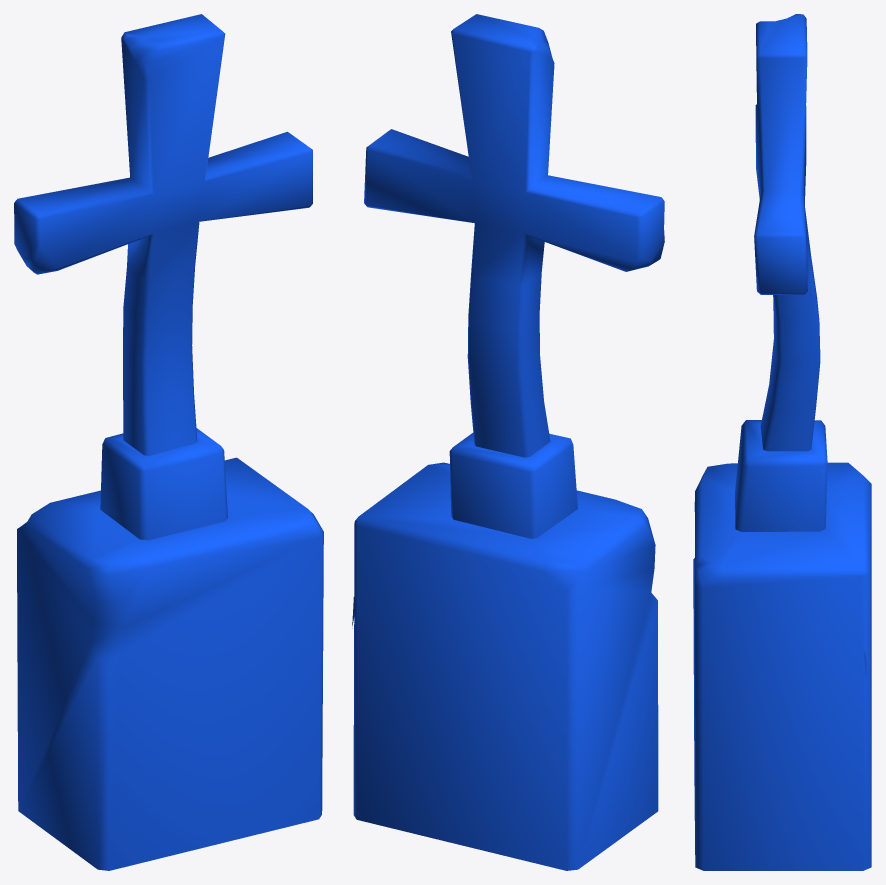
The model's file is MDungeon_Tombstone_Cross_01.FBX.
3 views of the same model, side by side, from view 1: azimuth 30°, elevation 25°; view 2: azimuth 150°, elevation 25°; view 3: azimuth 270°, elevation 25° (orthographic).
Parts seen in each view (by area): view 1: MDungeon_Tombstone_Cross_01_LOD0; view 2: MDungeon_Tombstone_Cross_01_LOD0; view 3: MDungeon_Tombstone_Cross_01_LOD0.
Boxes of the visible parts, x1,y1,x2,y2 form: MDungeon_Tombstone_Cross_01_LOD0: [14, 14, 323, 870]; MDungeon_Tombstone_Cross_01_LOD0: [352, 14, 664, 870]; MDungeon_Tombstone_Cross_01_LOD0: [693, 14, 871, 870].
Size of what is drawn, in the model's own units: 0.8268 by 2.22 by 0.4571.
